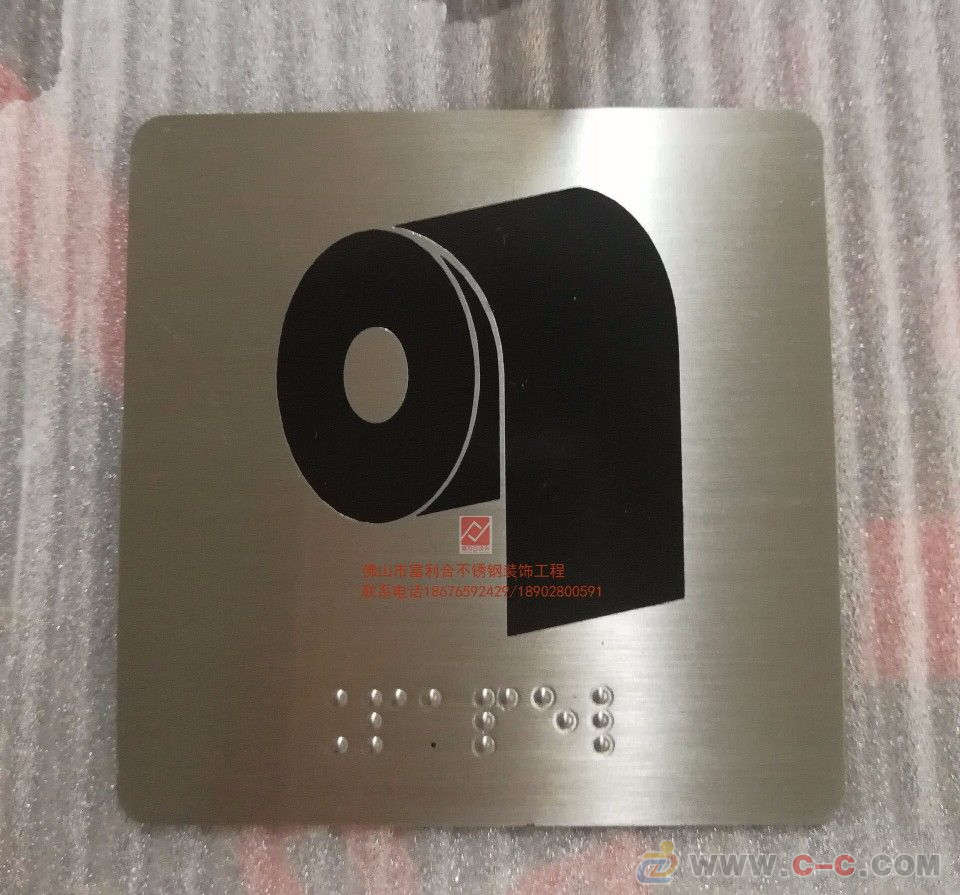Braille: (588, 684, 641, 757), (531, 685, 580, 758), (473, 686, 522, 757), (419, 687, 462, 755), (309, 686, 350, 754), (369, 686, 410, 754)
